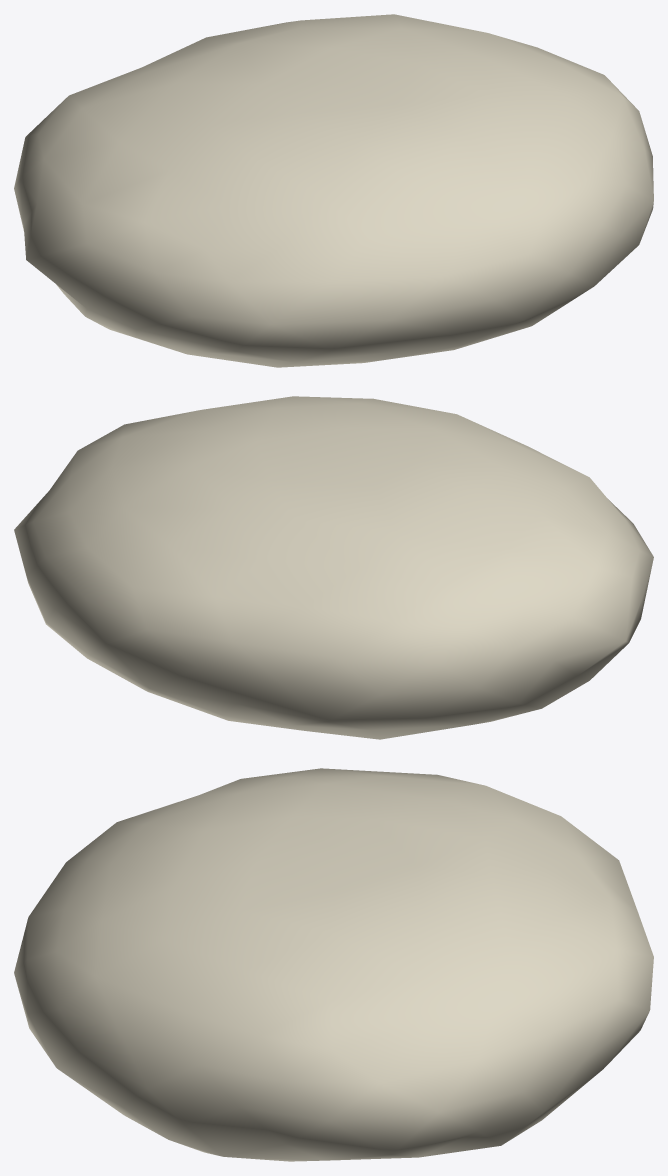
The model's file is ExitStone_A.fbx.
The picture shows the model from 3 angles, top to bottom: view 1: azimuth 30°, elevation 25°; view 2: azimuth 150°, elevation 25°; view 3: azimuth 270°, elevation 25°; orthographic projection. The views are drawn at different scales.
Parts seen in each view (by area): view 1: ExitStone_A; view 2: ExitStone_A; view 3: ExitStone_A.
Boxes of the visible parts, x1,y1,x2,y2 form: ExitStone_A: (14, 14, 653, 367); ExitStone_A: (14, 396, 653, 739); ExitStone_A: (14, 768, 653, 1161).
Bounding box in the file's own units: 1.11 × 0.38 × 0.9504.
